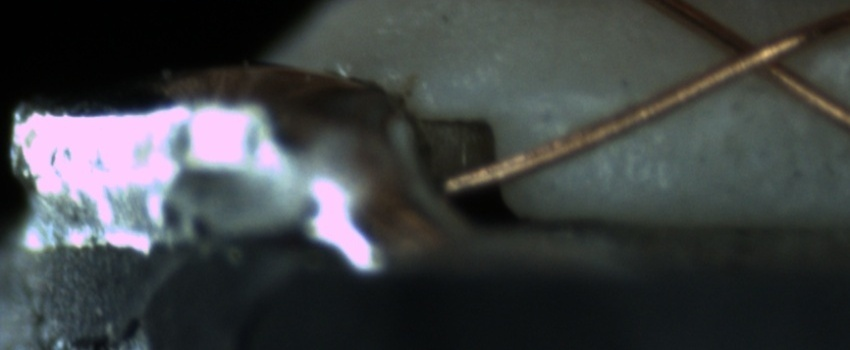CL: (702, 17, 810, 94)
